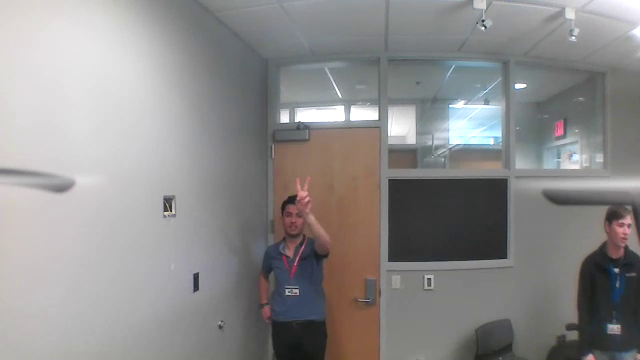peace: (290, 175, 320, 216)
